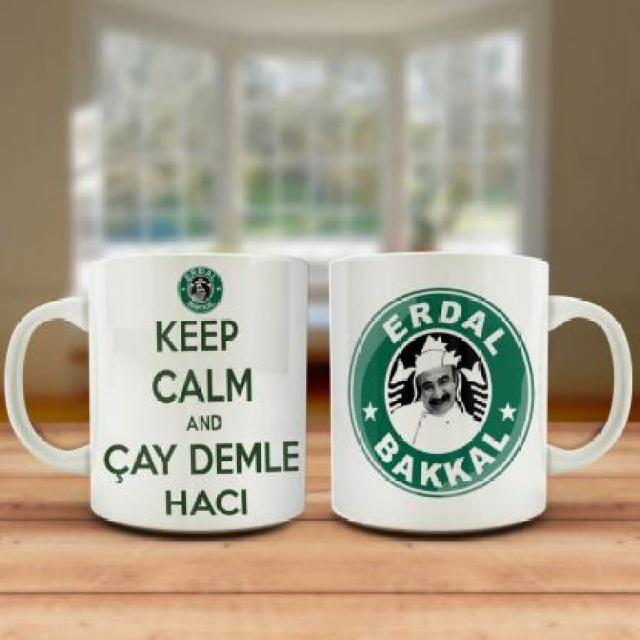taza: (328, 249, 636, 536), (3, 252, 306, 535)
